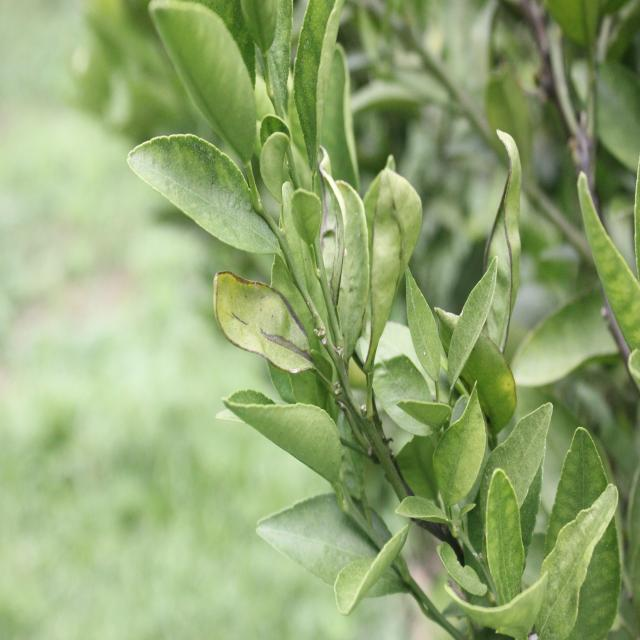melanose: (208, 272, 314, 381)
